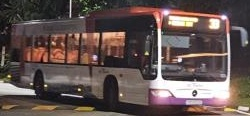bus: (204, 16, 222, 32)
